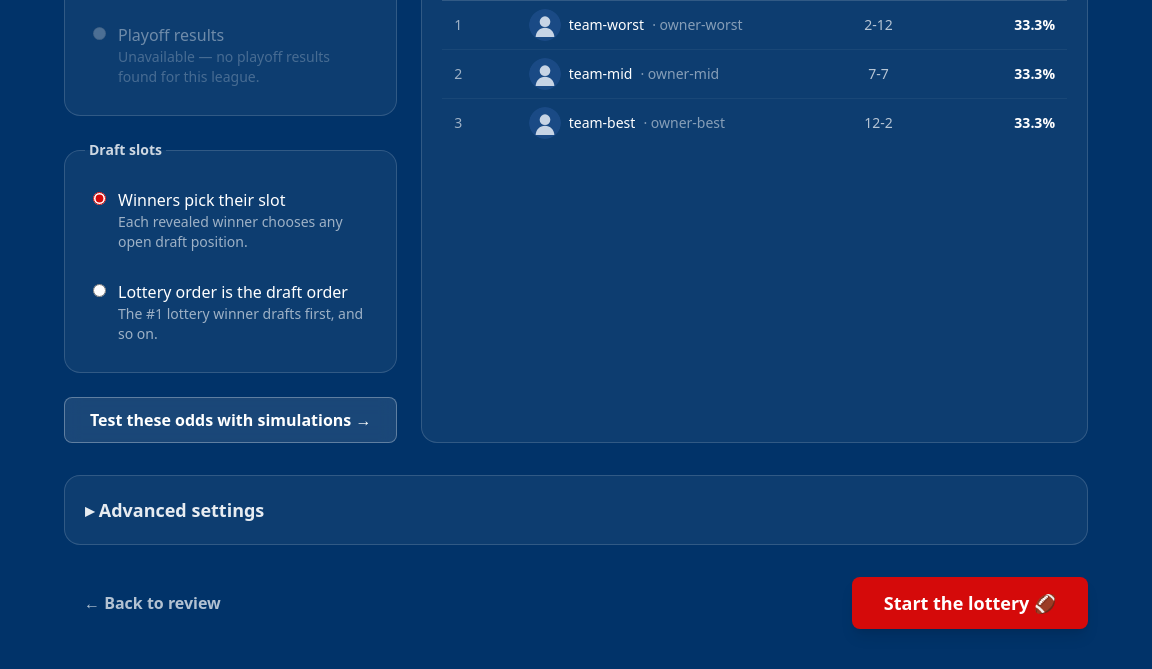
Scenario: ConfigScreen › advanced settings: unbalanced odds block start until normalized
(page scrolled)
Click the button "▸ Advanced settings" at (175, 510), box [85, 496, 264, 524]
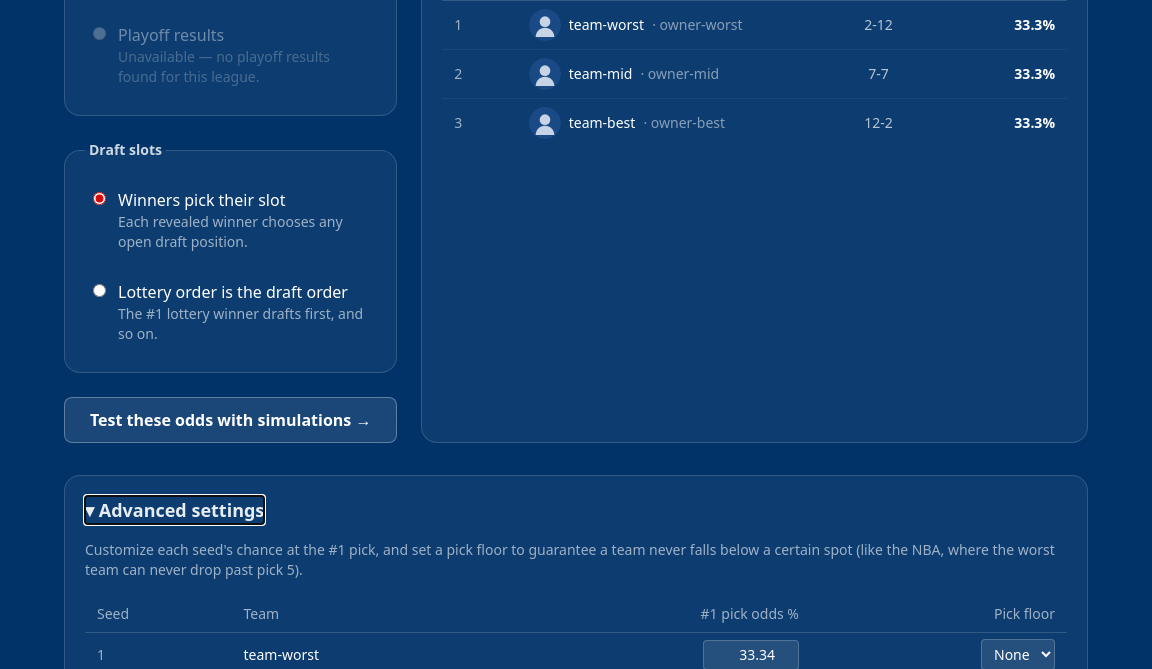
Replace the text in the number field named "odds percent for team-worst" with "50" at (751, 654), box [703, 640, 799, 668]
(page scrolled)
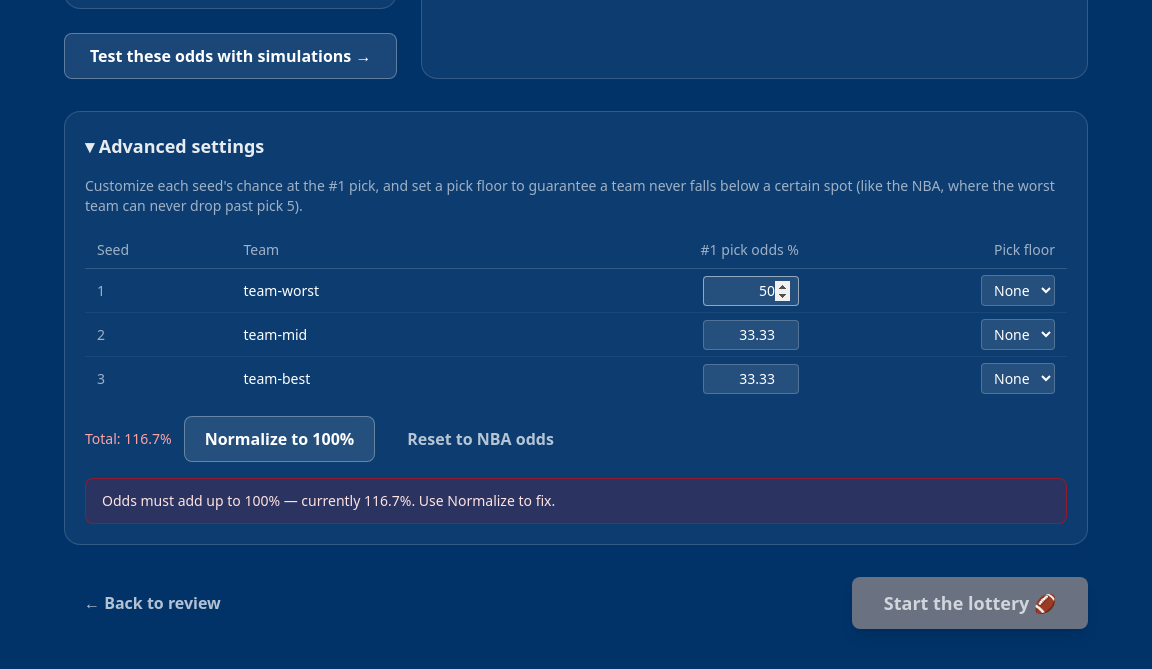
Now the button "Start the lottery 🏈" is disabled, box [852, 577, 1088, 629]
Now the message shows "add up to 100%", box [102, 491, 555, 510]
Click the button "Normalize to 100%" at (279, 439), box [184, 416, 375, 462]
(page scrolled)
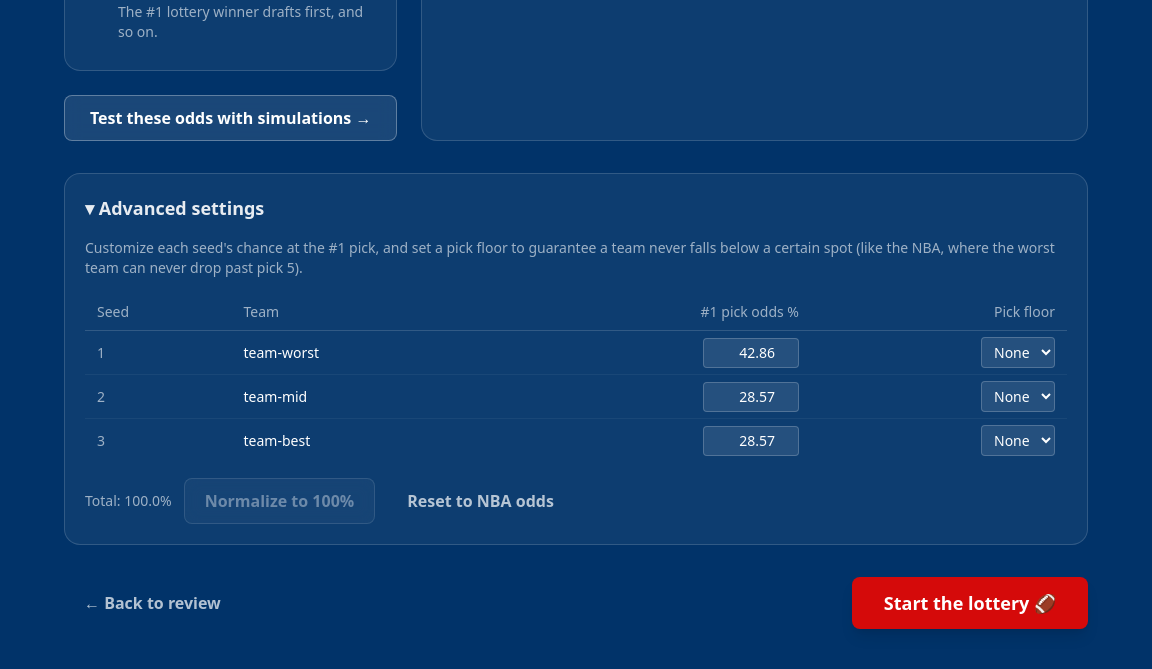
Now the button "Start the lottery 🏈" is enabled, box [852, 577, 1088, 629]
